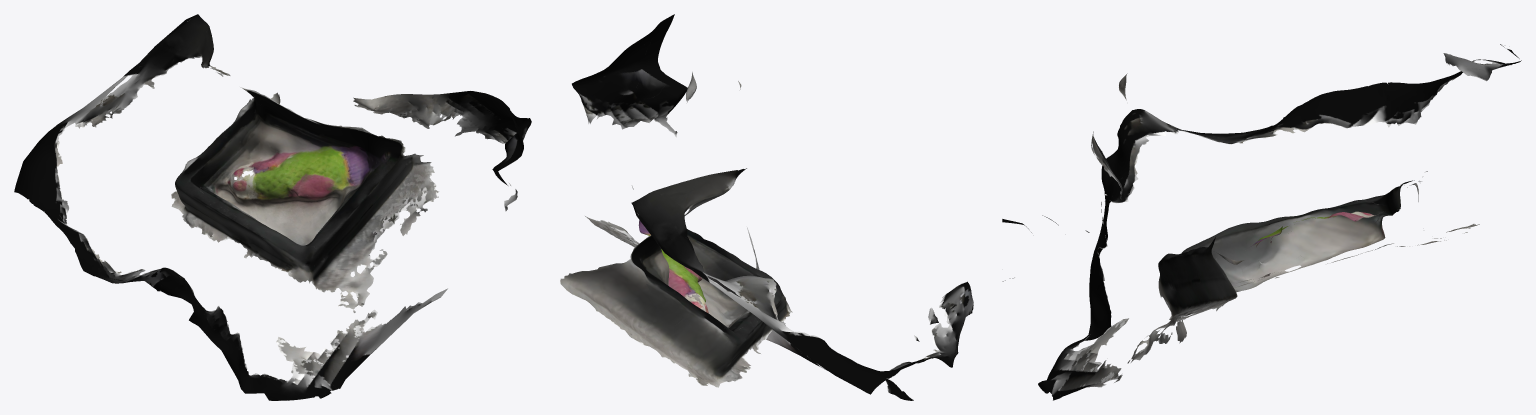
The picture shows the model from 3 angles, left to right: view 1: azimuth 30°, elevation 25°; view 2: azimuth 150°, elevation 25°; view 3: azimuth 270°, elevation 25°; orthographic projection. The views are drawn at different scales.
Bounding box in the file's own units: 1.01 × 0.6453 × 0.8277.
1 material, 1 textured.
